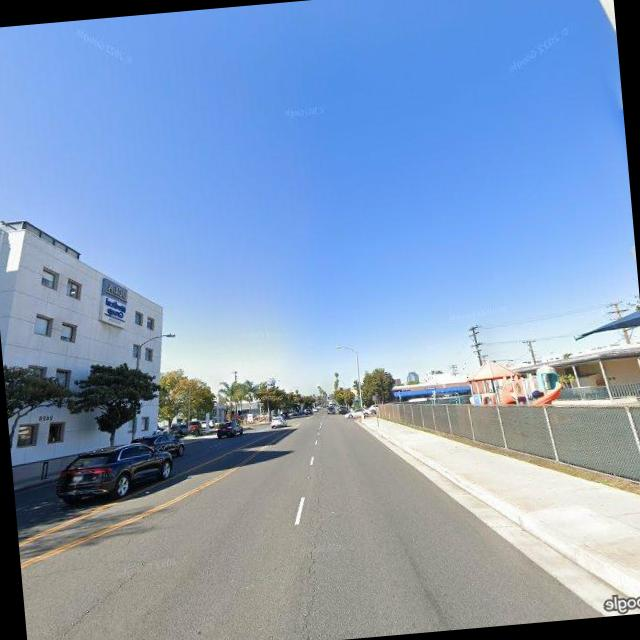pothole: (30, 555, 159, 640), (289, 540, 330, 640)
